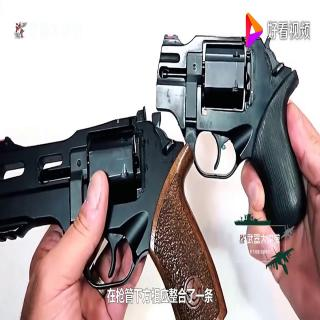gun: (142, 6, 312, 266), (0, 125, 225, 319)
